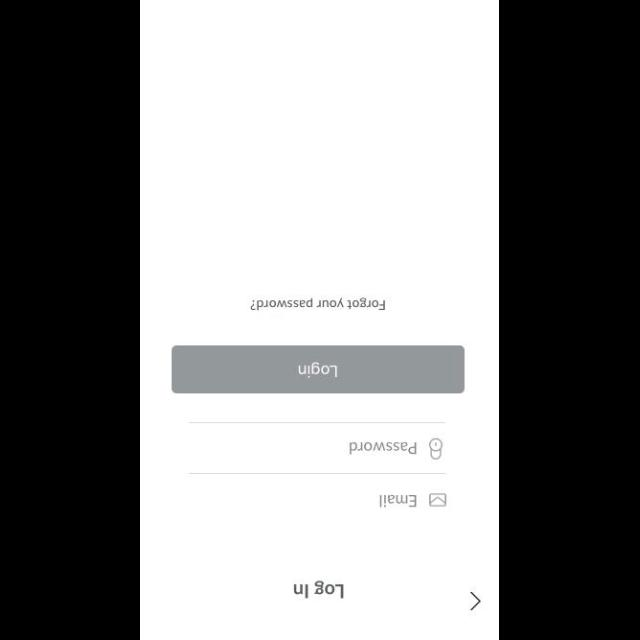icon: (429, 438, 443, 460), (429, 492, 447, 508), (468, 592, 482, 610)
input: (188, 422, 446, 461), (188, 472, 448, 508)
text: (250, 297, 386, 311), (294, 580, 344, 598), (349, 441, 417, 454), (380, 494, 418, 508)
textbutton: (172, 345, 466, 393)
